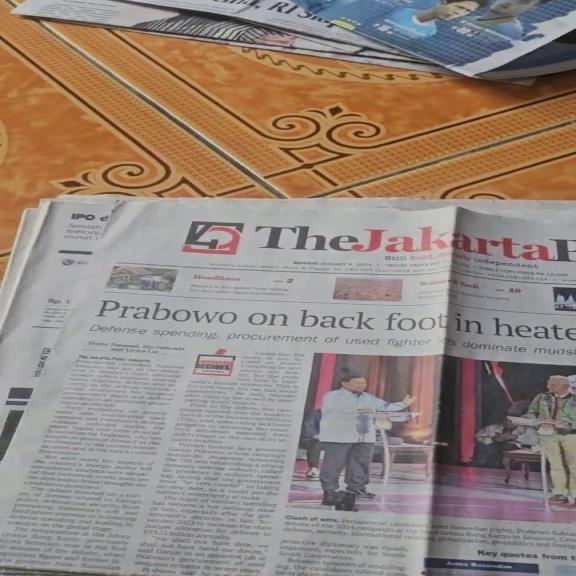Kertas: (30, 199, 568, 576)
